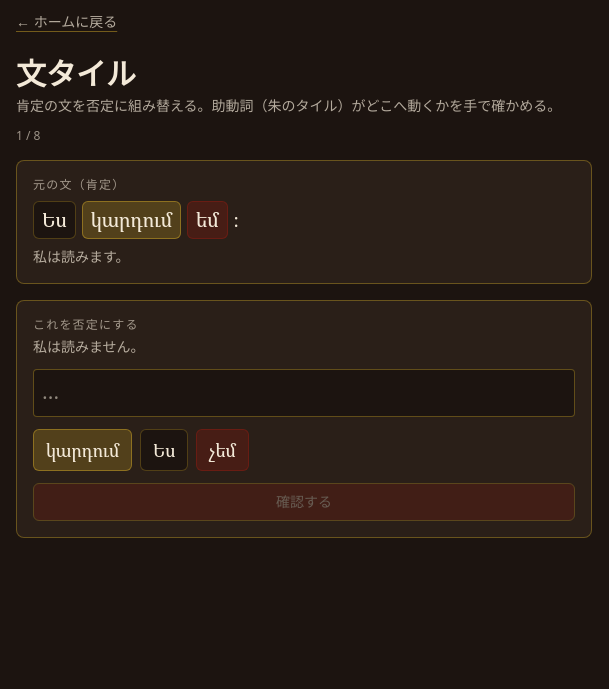
Test: SentenceTiles › rejects the affirmative order when the negative was asked for
The width and height of the screenshot is (609, 689).
Click the button "Ես" at (164, 450), box left=140, top=429, right=188, bottom=471
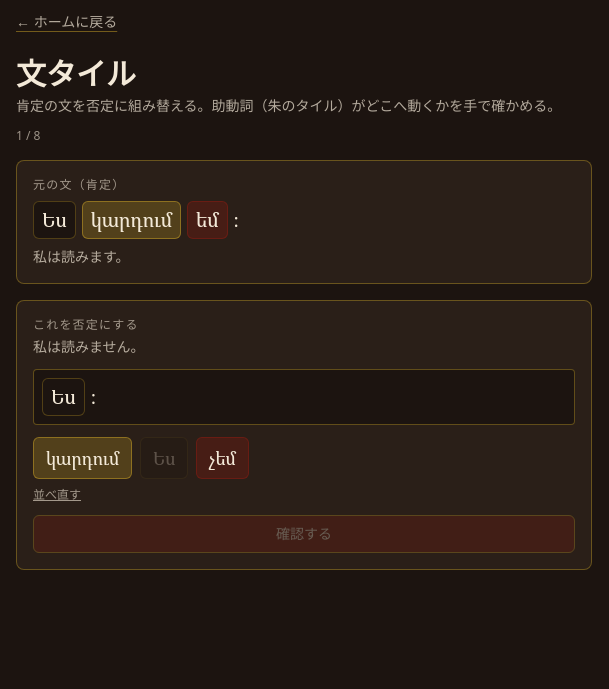
Click the button "կարդում" at (83, 458), box left=33, top=437, right=132, bottom=479
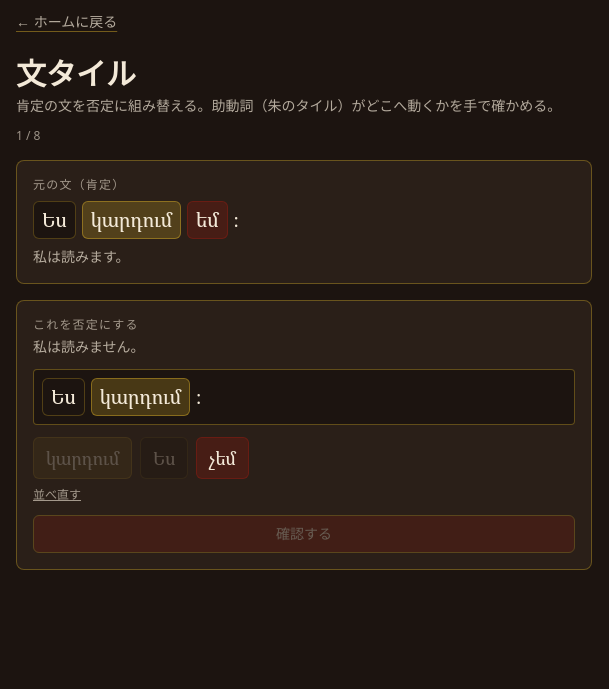
Click the button "չեմ" at (223, 458), box left=196, top=437, right=249, bottom=479
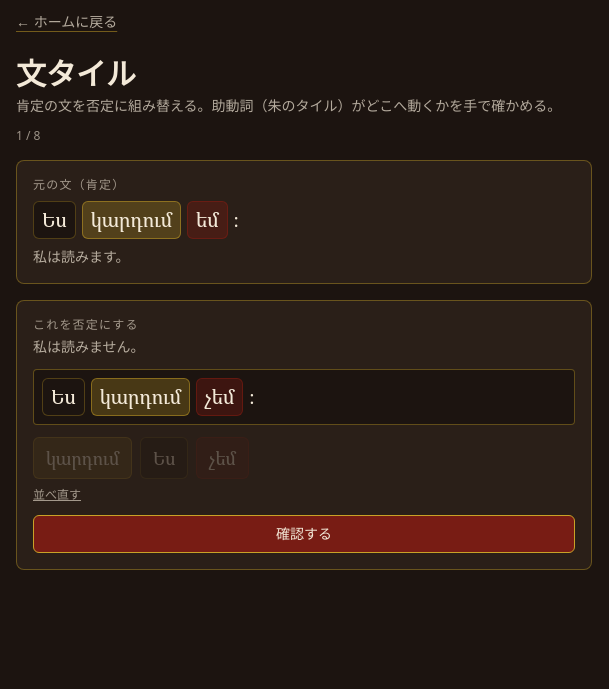
Click the button "確認する" at (304, 534), box left=33, top=515, right=575, bottom=553
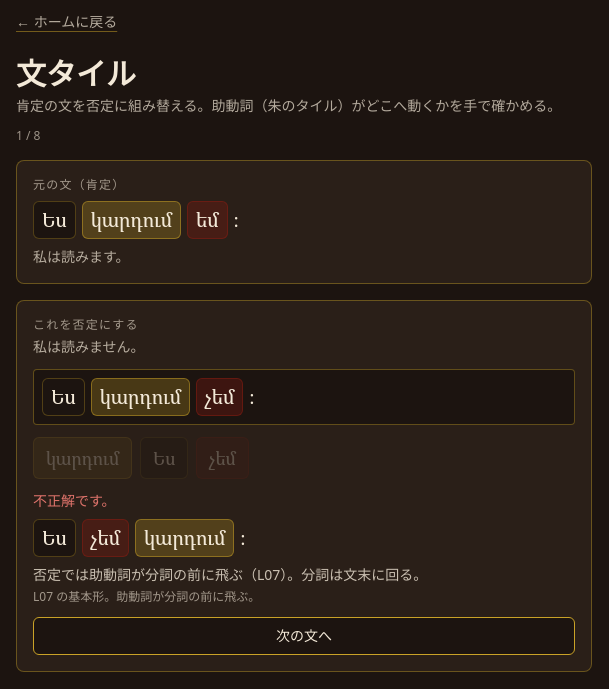
Check: the text "不正解です。" is shown, box left=33, top=491, right=116, bottom=510
